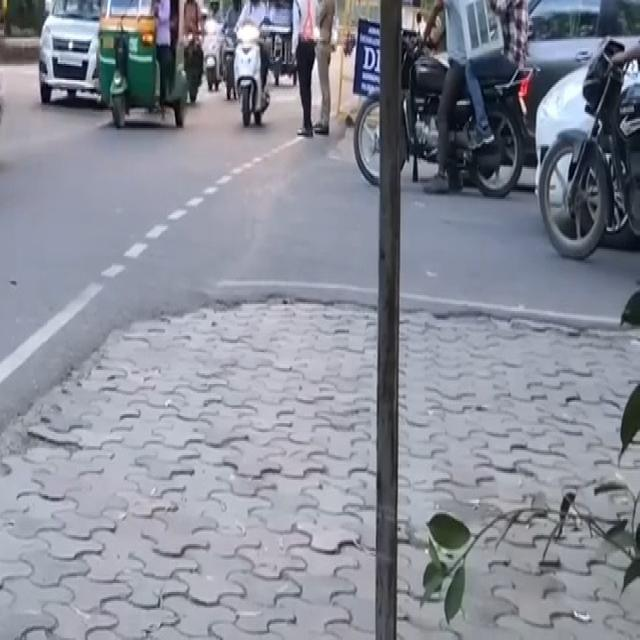car: (35, 0, 121, 110)
motorbike: (228, 0, 280, 130), (0, 0, 4, 224)
rickshaw: (93, 0, 214, 139)
